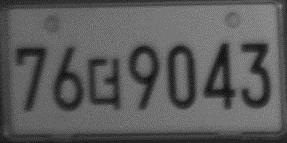0: (165, 43, 196, 108)
3: (238, 41, 272, 109)
4: (201, 42, 237, 110)
6: (51, 45, 85, 111)
7: (13, 45, 47, 112)
9: (127, 42, 161, 110)
더: (87, 56, 121, 110)
